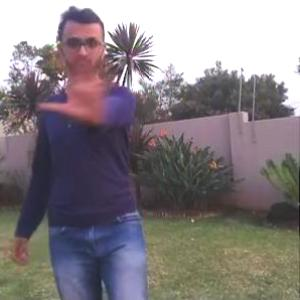follow_hand: (36, 43, 120, 123)
